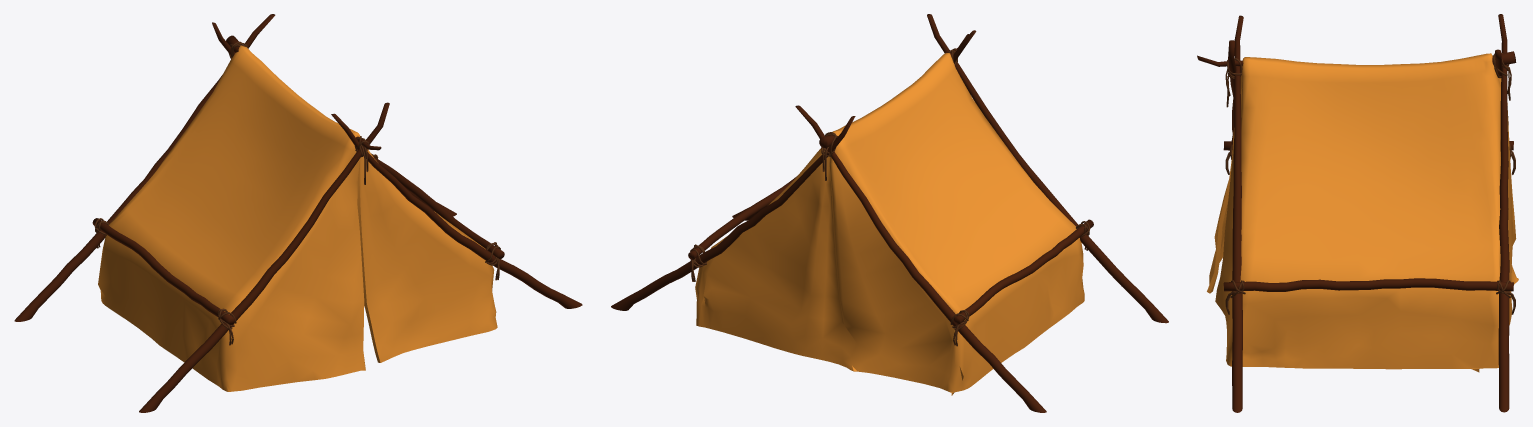
The model's file is tentClose.fbx.
3 views of the same model, side by side, from view 1: azimuth 30°, elevation 25°; view 2: azimuth 150°, elevation 25°; view 3: azimuth 270°, elevation 25° (orthographic). The views are drawn at different scales.
Visible parts, largest first — view 1: Tent004; view 2: Tent004; view 3: Tent004.
Part boxes in pixels (x1,y1,x2,y2): Tent004: (14,14,582,412); Tent004: (611,14,1168,412); Tent004: (1197,14,1518,412).
Size of the model in its own units: 4.18 by 2.45 by 2.29.
